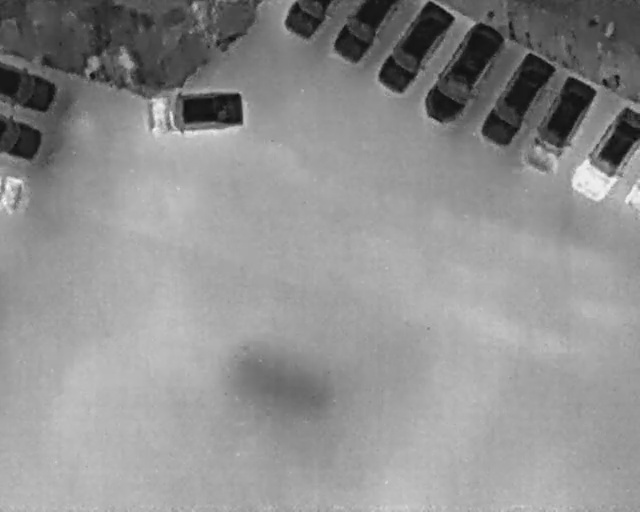Car: (413, 13, 512, 134), (517, 69, 605, 183), (474, 47, 560, 153), (373, 0, 456, 99), (569, 105, 639, 204), (146, 82, 251, 141), (332, 0, 398, 64), (0, 59, 60, 113), (0, 112, 45, 162), (282, 0, 334, 40), (0, 172, 29, 218)
